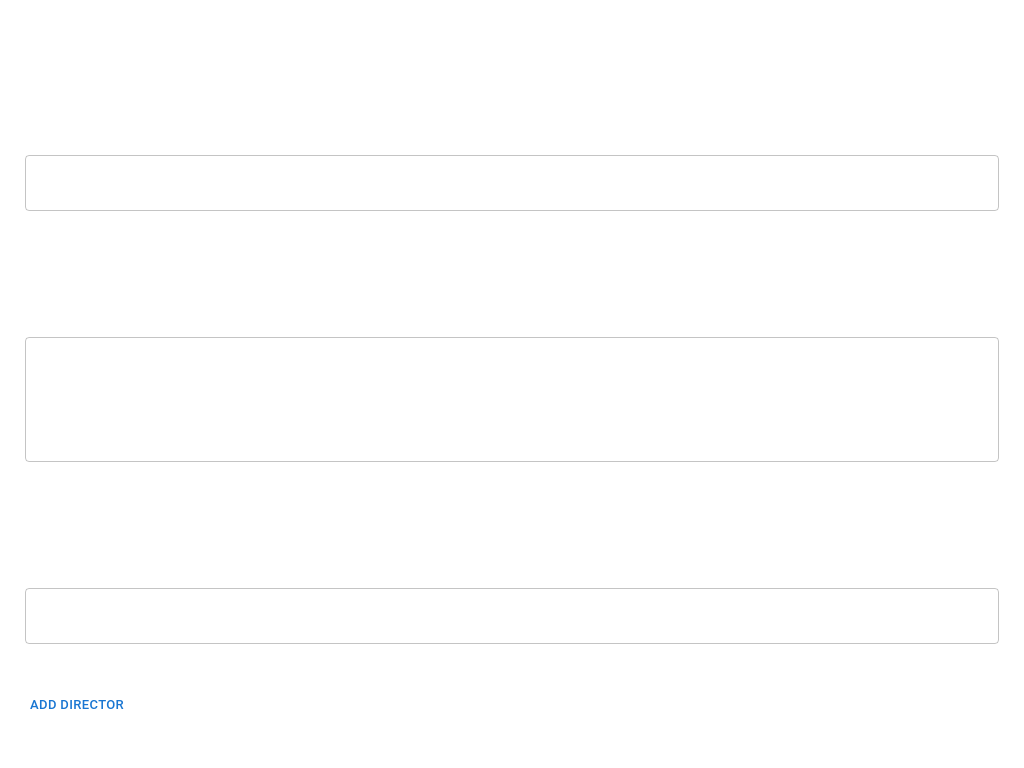
it: Phase D - Collection form sections › adds a director row when Add Director is clicked
Expected: the field labelled "Director 1" is not shown
What coordinates should you click on to do the following:
click the button with test id "add-director-btn"
I would click on:
 (77, 705)
Its box is [25,690,129,721].
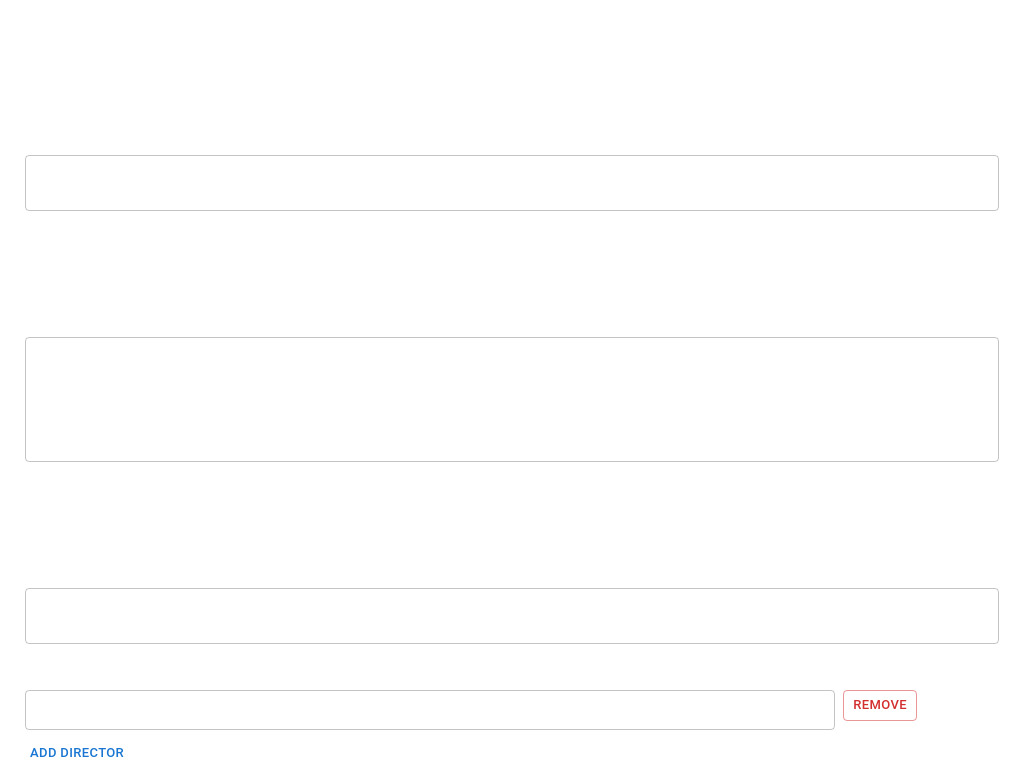
Expected: the field labelled "Director 1" is shown, [25,690,835,730]
